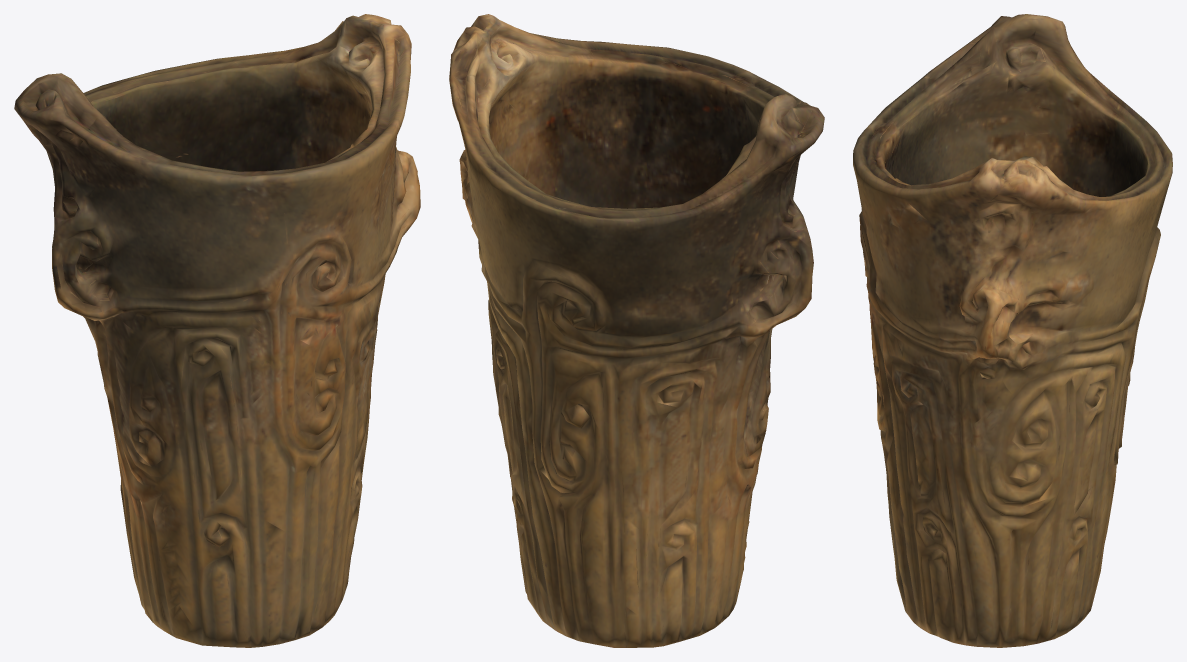
3 views of the same model, side by side, from view 1: azimuth 30°, elevation 25°; view 2: azimuth 150°, elevation 25°; view 3: azimuth 270°, elevation 25° (orthographic). The views are drawn at different scales.
Visible parts, largest first — view 1: UD0304_low; view 2: UD0304_low; view 3: UD0304_low.
Boxes of the visible parts, x1,y1,x2,y2 form: UD0304_low: (14,14,420,647); UD0304_low: (449,14,824,647); UD0304_low: (853,14,1172,647).
Bounding box in the file's own units: 154 × 220 × 122.
1 material, 1 textured.
